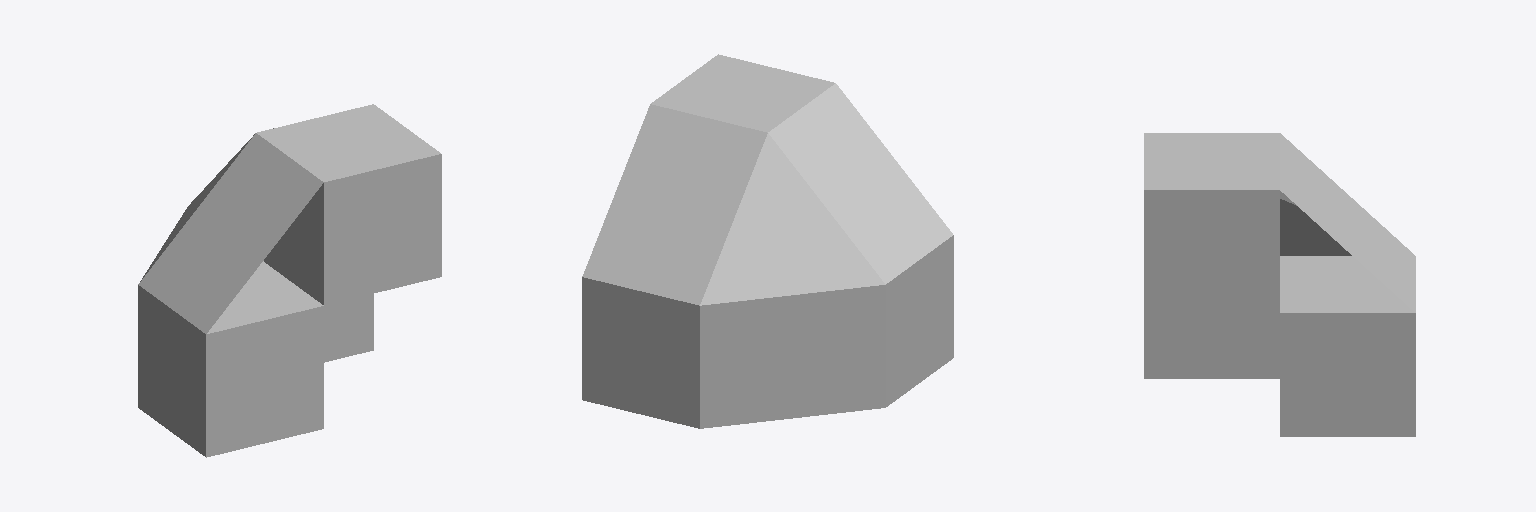
3 views of the same model, side by side, from view 1: azimuth 30°, elevation 25°; view 2: azimuth 150°, elevation 25°; view 3: azimuth 270°, elevation 25° (orthographic).
Parts seen in each view (by area): view 1: tn, nw, TNW.002, tw, TNW.001; view 2: TNW.003, TNW, TNW.002, TNW.001, tw, tn, nw; view 3: nw, tw, tn, TNW, TNW.003.
Boxes of the visible parts, <box> form: tn: <box>138,261,323,457</box>; nw: <box>257,104,441,305</box>; TNW.002: <box>138,133,323,333</box>; tw: <box>324,294,373,362</box>; TNW.001: <box>140,134,254,281</box>; TNW.003: <box>700,285,885,428</box>; TNW: <box>582,104,767,305</box>; TNW.002: <box>768,83,952,283</box>; TNW.001: <box>700,133,885,305</box>; tw: <box>582,277,699,428</box>; tn: <box>886,235,953,406</box>; nw: <box>651,54,834,132</box>; nw: <box>1144,133,1279,312</box>; tw: <box>1280,256,1415,436</box>; tn: <box>1144,313,1279,378</box>; TNW: <box>1280,133,1415,312</box>; TNW.003: <box>1280,199,1351,255</box>.
Size of the model in its own units: 0.125 by 0.125 by 0.125.